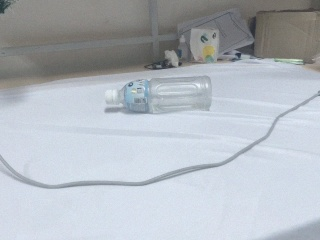bottle: (104, 73, 213, 116)
box: (252, 3, 320, 65)
